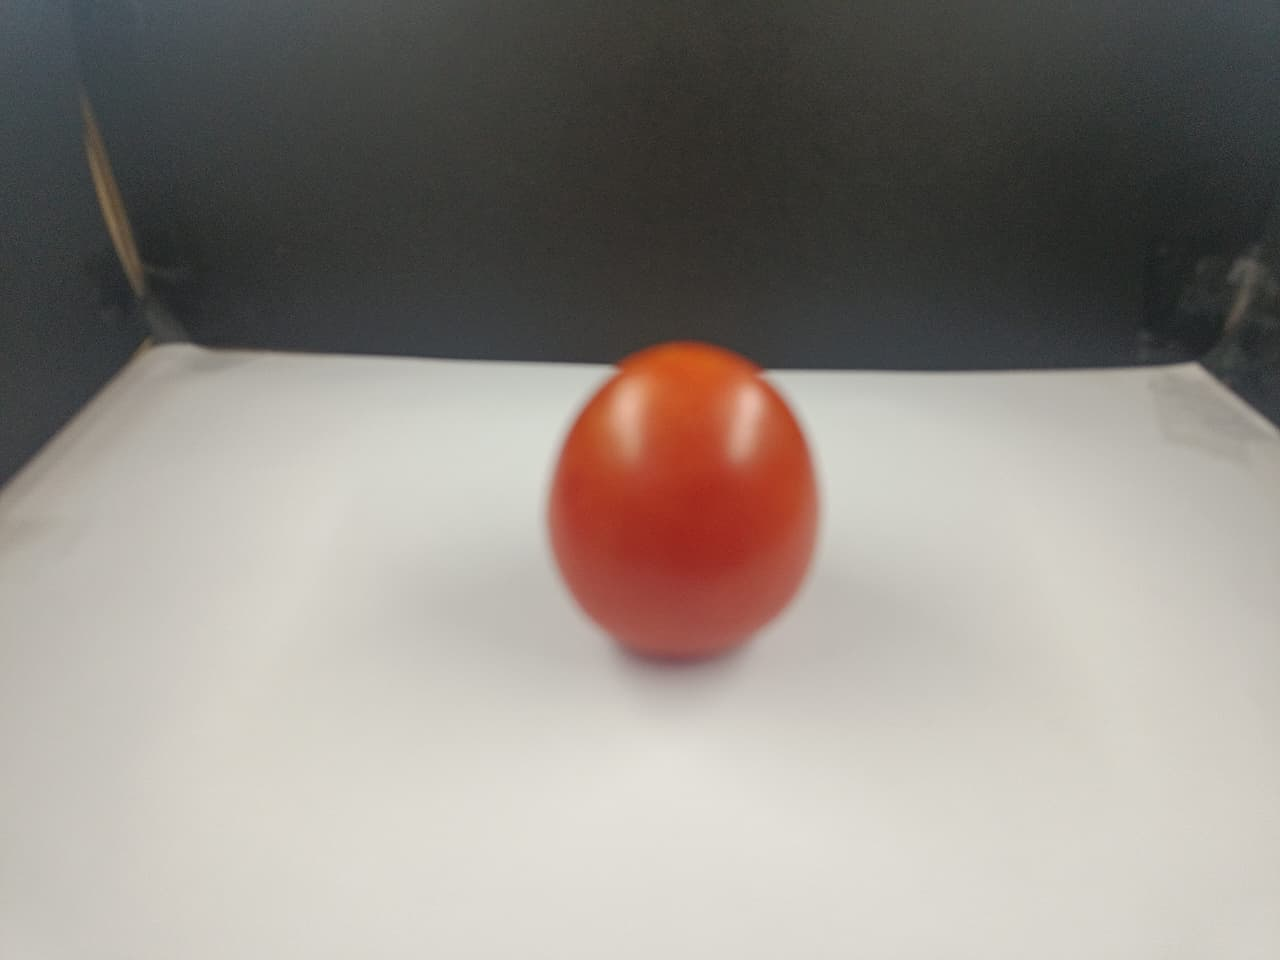ripe: (506, 330, 868, 682)
